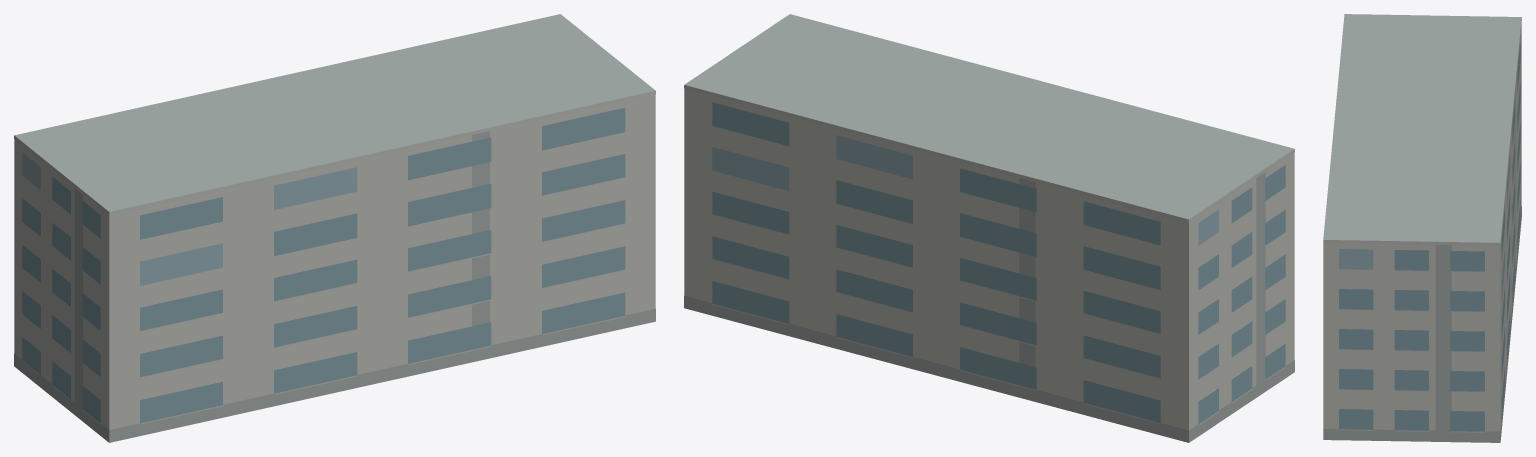
File: residential-a8e9ca52-5c01-4798-8018-baad924d3197.glb
The picture shows the model from 3 angles, left to right: view 1: azimuth 30°, elevation 25°; view 2: azimuth 150°, elevation 25°; view 3: azimuth 270°, elevation 25°; orthographic projection. The views are drawn at different scales.
Parts seen in each view (by area): view 1: residential-a8e9ca52-5c01-4798-8018-baad924d3197.tmp; view 2: residential-a8e9ca52-5c01-4798-8018-baad924d3197.tmp; view 3: residential-a8e9ca52-5c01-4798-8018-baad924d3197.tmp.
Boxes of the visible parts, x1,y1,x2,y2 form: residential-a8e9ca52-5c01-4798-8018-baad924d3197.tmp: [14, 14, 655, 442]; residential-a8e9ca52-5c01-4798-8018-baad924d3197.tmp: [684, 14, 1294, 442]; residential-a8e9ca52-5c01-4798-8018-baad924d3197.tmp: [1323, 14, 1521, 442].
Bounding box in the file's own units: 37.41 × 15.25 × 13.73.
